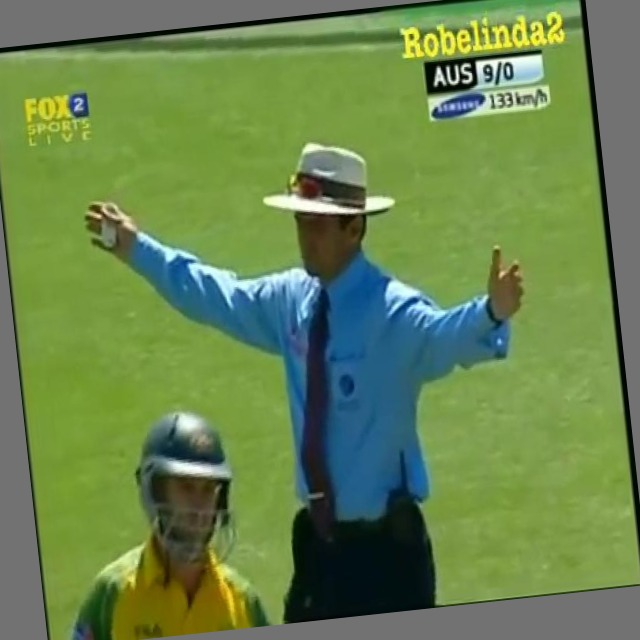Wide: (78, 111, 559, 640)
